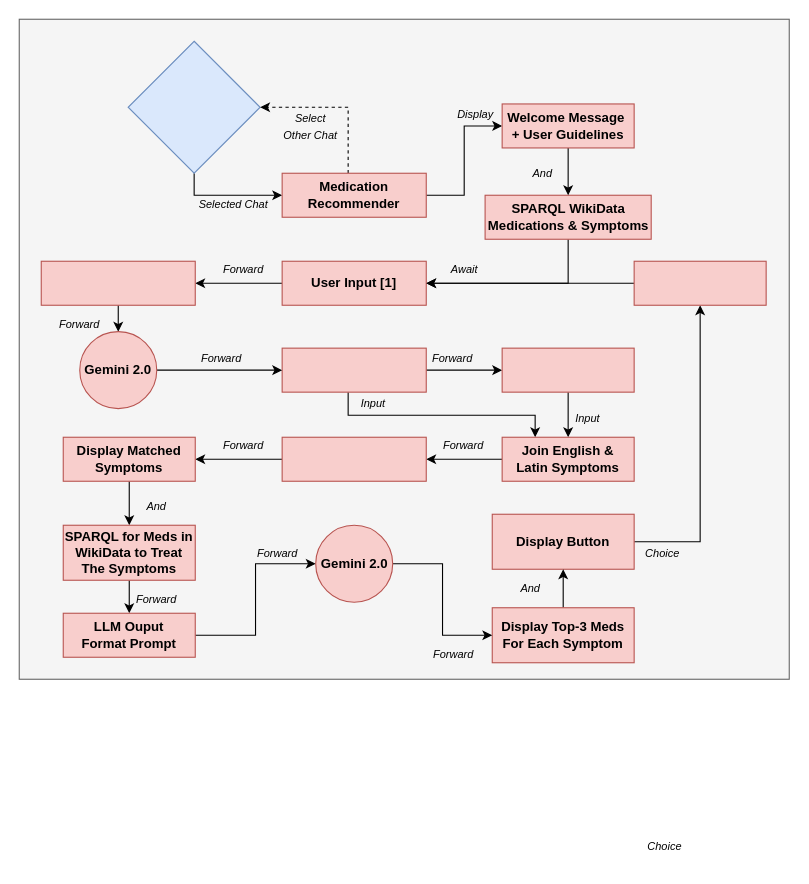
The diagram is 809 pixels wide and 884 high, and some of its shapes have lost their labels. The centre of each missing label's shape, as x and y in pixels:
"Chatbot Selector" belongs at (193,106).
"FuzzyWuzzy" belongs at (353,458).
"LLM Prompt Extract Symptoms [English]" belongs at (117,282).
"LLM Response Extracted Symptoms" belongs at (353,369).
"Query Again" belongs at (699,282).
"Translate Symptoms to Latin" belongs at (567,369).
